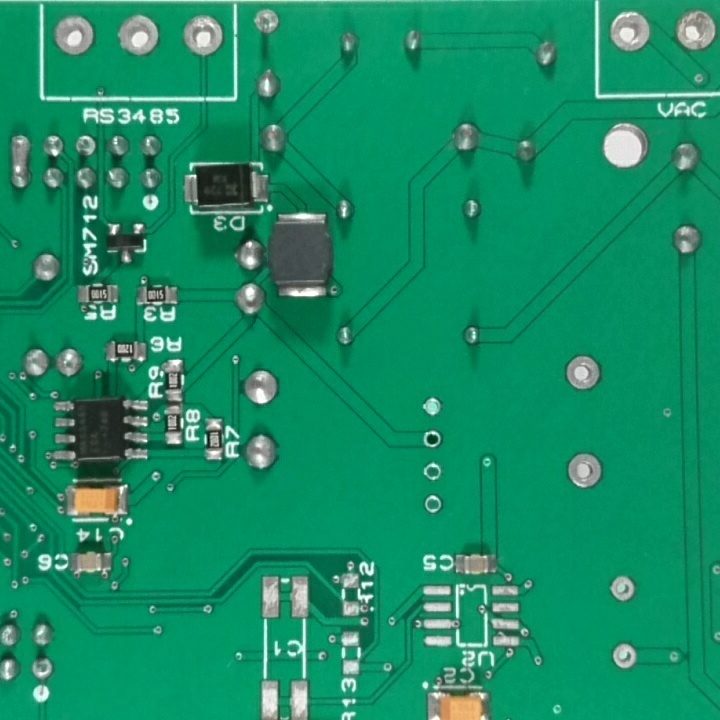F: (179, 11, 229, 62), (45, 11, 98, 59), (113, 11, 163, 61), (604, 5, 653, 55), (671, 8, 720, 53), (562, 449, 606, 493), (561, 351, 604, 396), (609, 640, 643, 675), (607, 575, 639, 606), (251, 8, 282, 37), (418, 394, 447, 421), (30, 657, 57, 683), (419, 427, 445, 454), (73, 135, 101, 160), (419, 491, 445, 516), (421, 460, 444, 486)
P: (7, 130, 34, 195)
